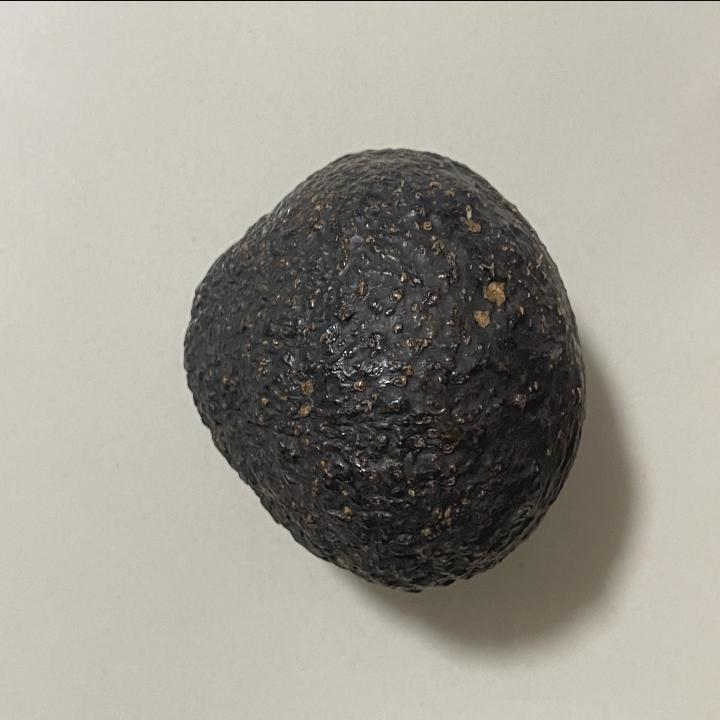Level3: (173, 134, 593, 604)
